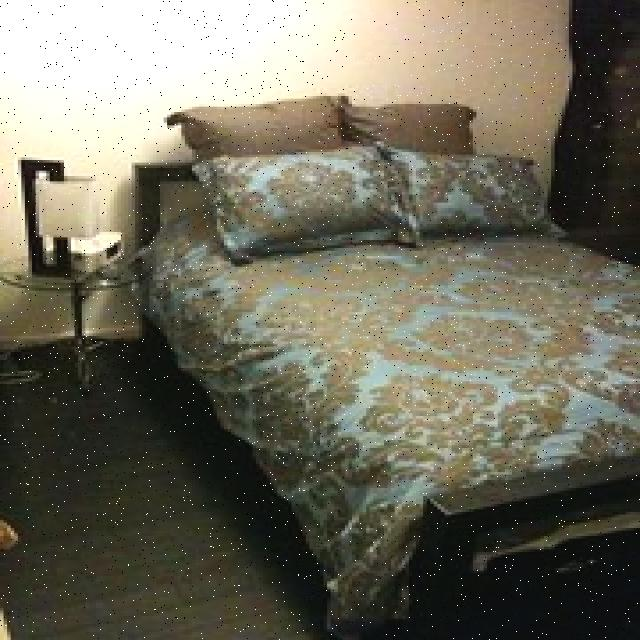bed: (117, 88, 640, 637)
